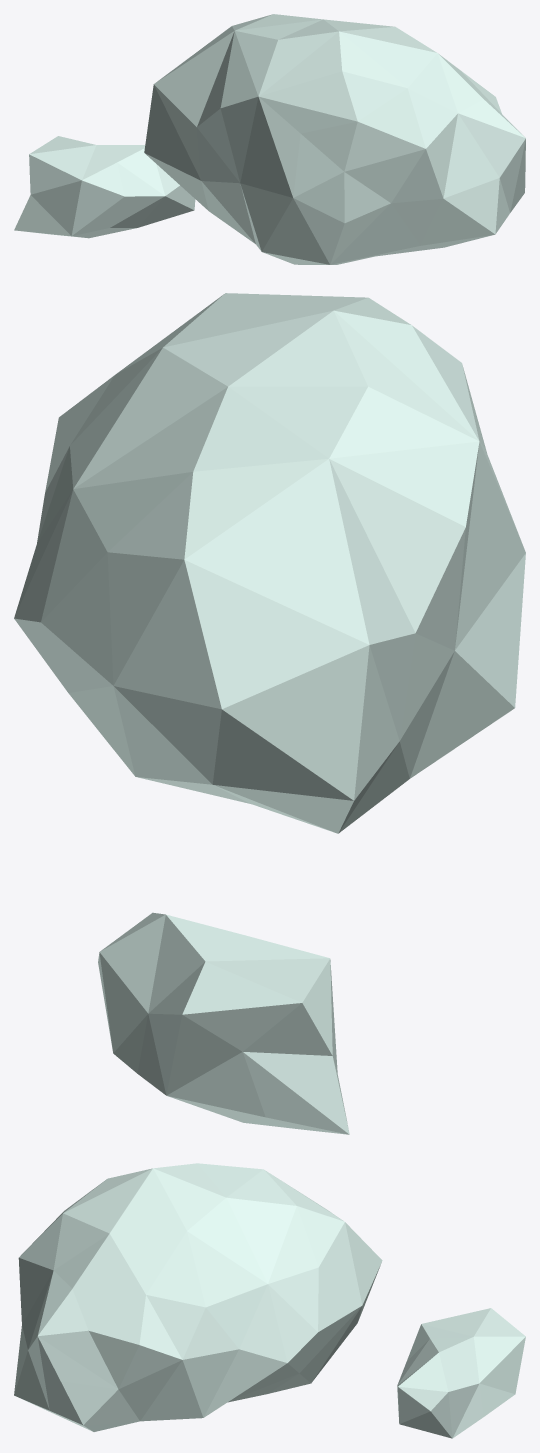
The model's file is Cloud_3.fbx.
The picture shows the model from 3 angles, top to bottom: view 1: azimuth 30°, elevation 25°; view 2: azimuth 150°, elevation 25°; view 3: azimuth 270°, elevation 25°; orthographic projection. The views are drawn at different scales.
Parts seen in each view (by area): view 1: Icosphere.004; view 2: Icosphere.004; view 3: Icosphere.004.
Boxes of the visible parts, box(x1,y1,x2,y2) form: Icosphere.004: box(14, 14, 525, 264); Icosphere.004: box(14, 293, 525, 1134); Icosphere.004: box(14, 1163, 525, 1438).
Bounding box in the file's own units: 216 × 189 × 290.
Materials: 1 (1 with a texture image).
